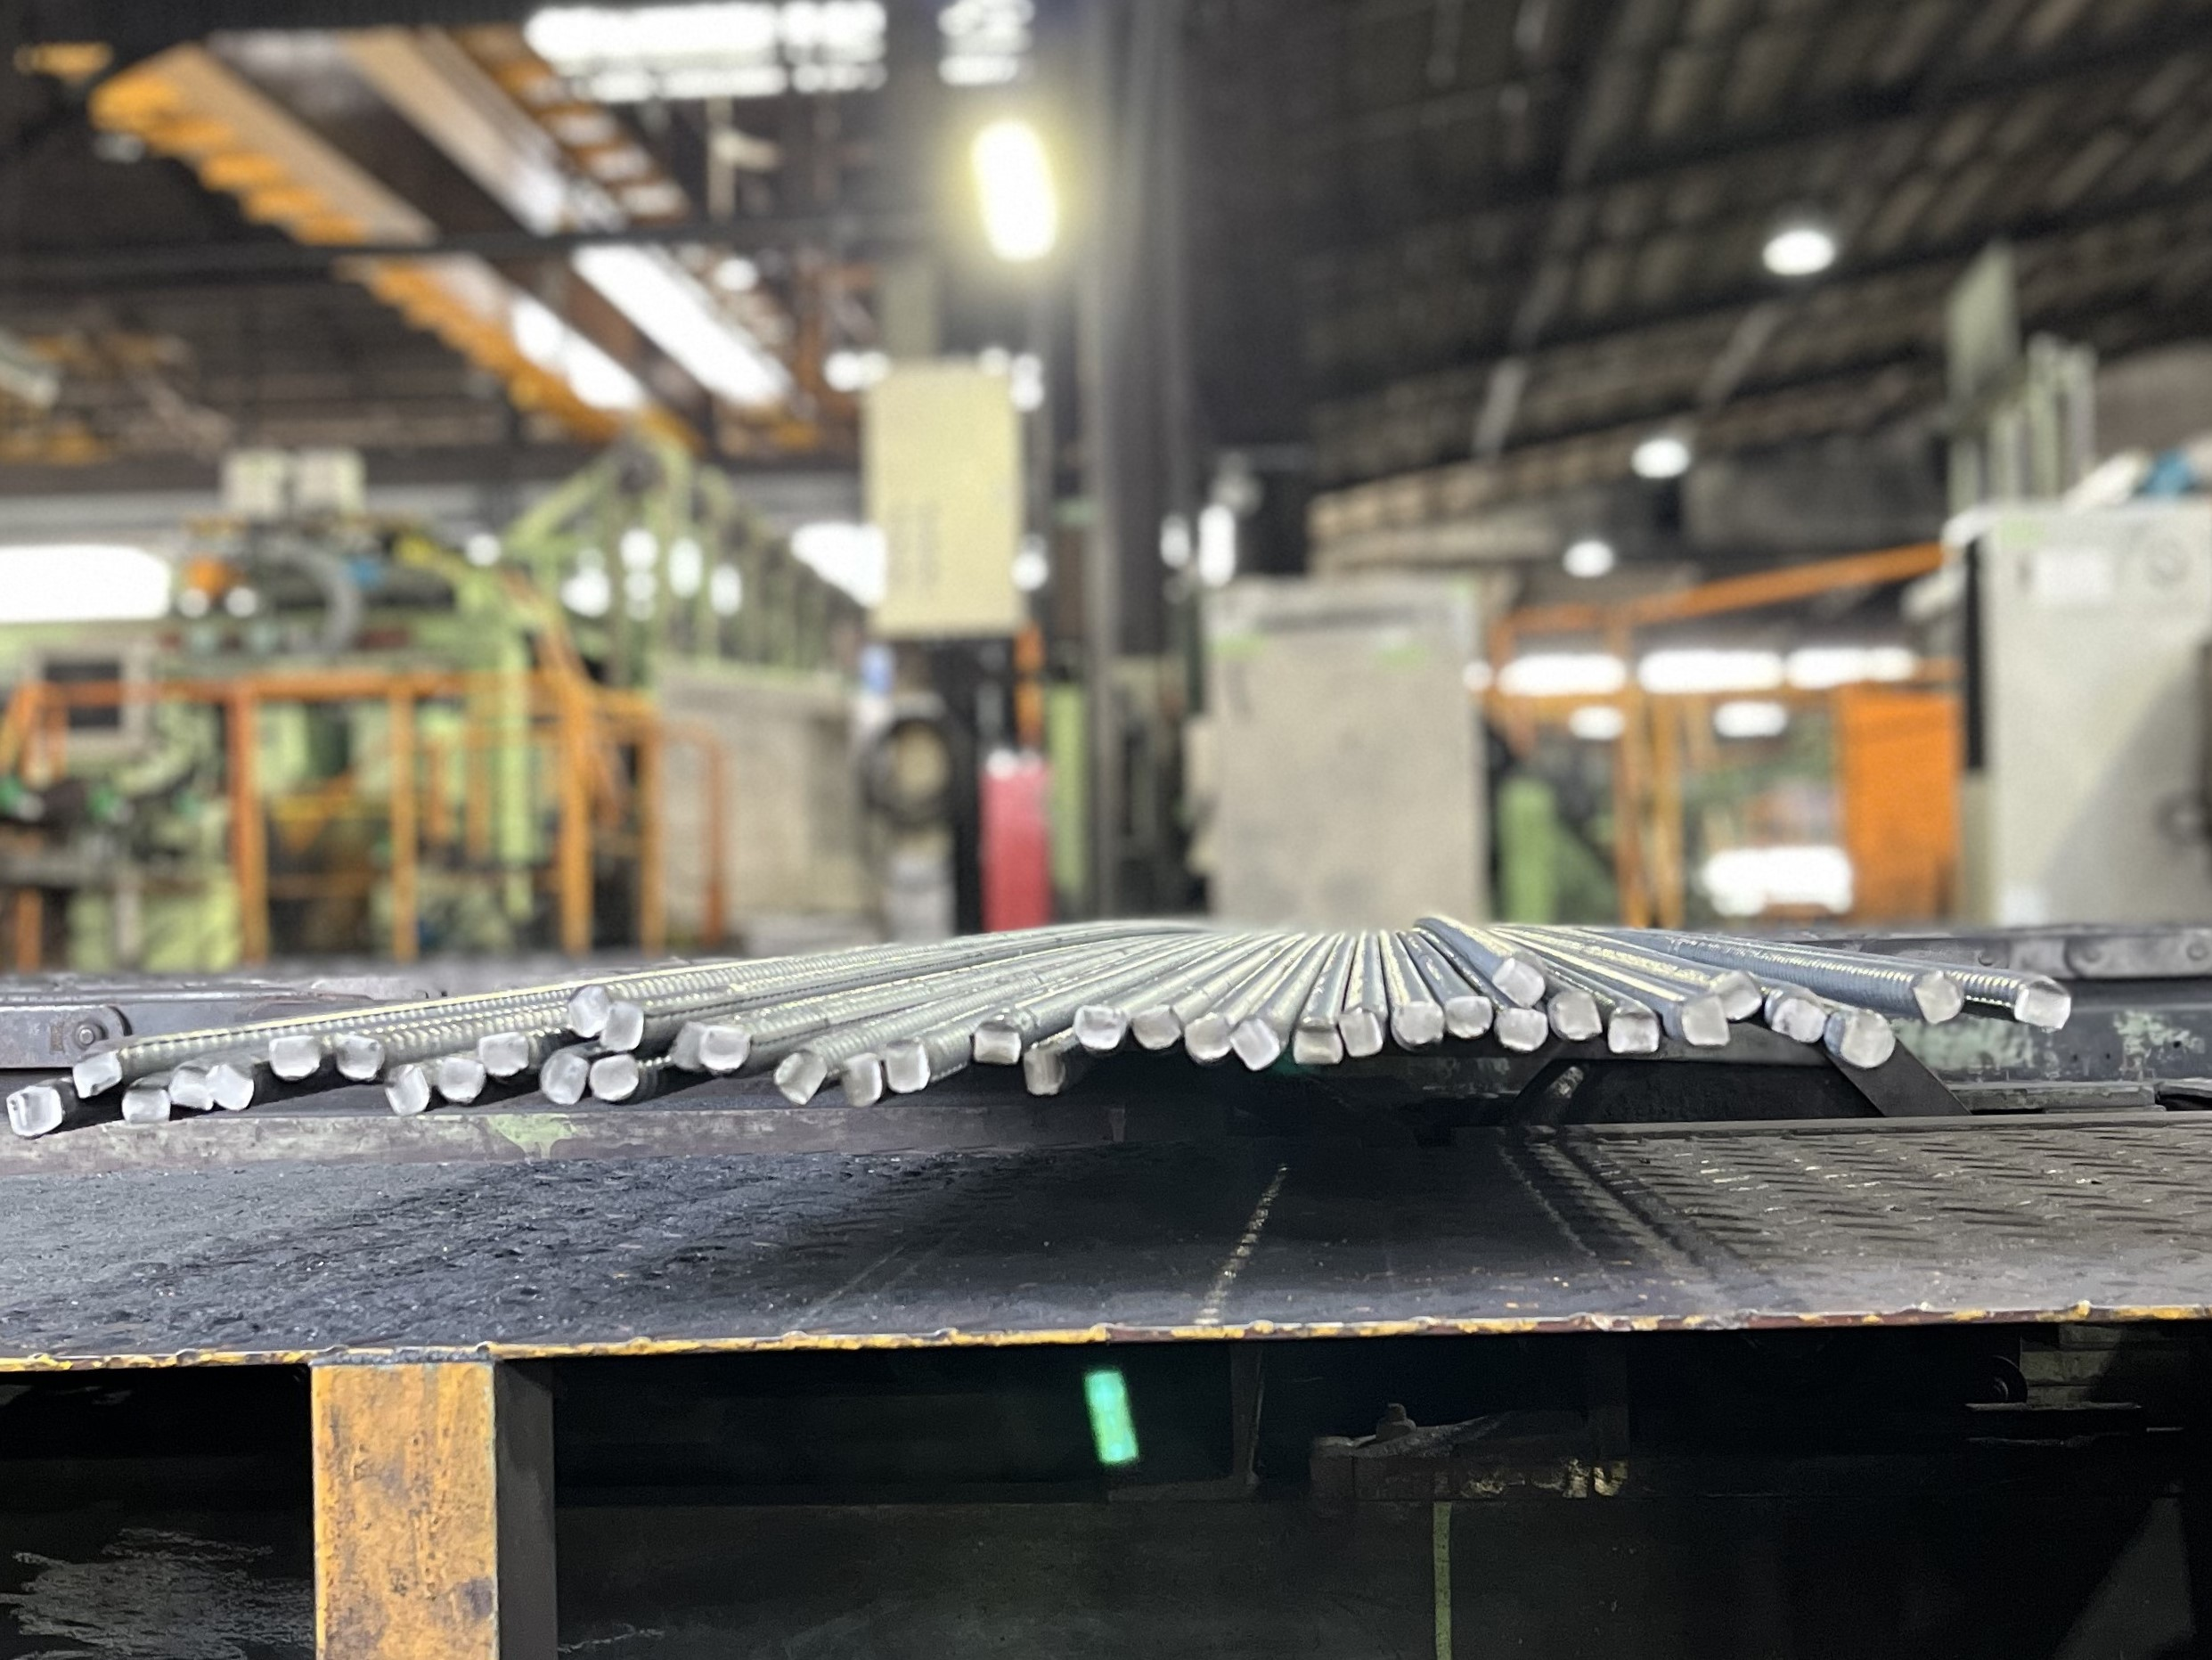rod: (1827, 1001, 1902, 1069), (2010, 973, 2073, 1034), (772, 1048, 831, 1107), (1708, 966, 1764, 1027), (1909, 966, 1964, 1027), (537, 1046, 591, 1109), (1679, 990, 1734, 1050), (882, 1036, 933, 1100), (1229, 1015, 1285, 1072), (1605, 1003, 1663, 1058), (5, 1085, 64, 1139), (1386, 999, 1445, 1053), (1764, 994, 1827, 1044), (586, 1055, 645, 1107), (1490, 956, 1550, 1008), (331, 1029, 387, 1083), (1548, 989, 1604, 1043), (1337, 1003, 1389, 1060), (265, 1034, 324, 1085), (382, 1062, 434, 1118), (1072, 1003, 1130, 1053), (1494, 1004, 1551, 1055), (434, 1053, 488, 1106), (967, 1018, 1021, 1071), (474, 1031, 532, 1079), (565, 982, 612, 1041), (697, 1024, 757, 1071), (1021, 1043, 1069, 1102), (71, 1048, 124, 1100), (207, 1060, 260, 1112), (600, 997, 648, 1053), (838, 1051, 884, 1111), (1290, 1022, 1344, 1071), (1443, 992, 1494, 1043), (1182, 1013, 1231, 1064), (167, 1064, 216, 1112), (1131, 1003, 1180, 1051), (119, 1083, 174, 1125), (664, 1018, 706, 1072)
